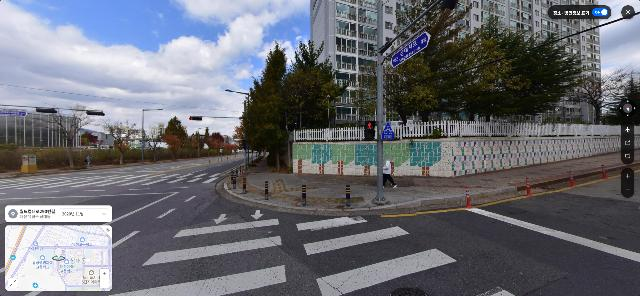other: (372, 0, 590, 124), (281, 38, 346, 170), (241, 41, 288, 171), (573, 65, 639, 125), (48, 105, 93, 169), (97, 118, 136, 166), (162, 116, 188, 159), (140, 122, 167, 162)
